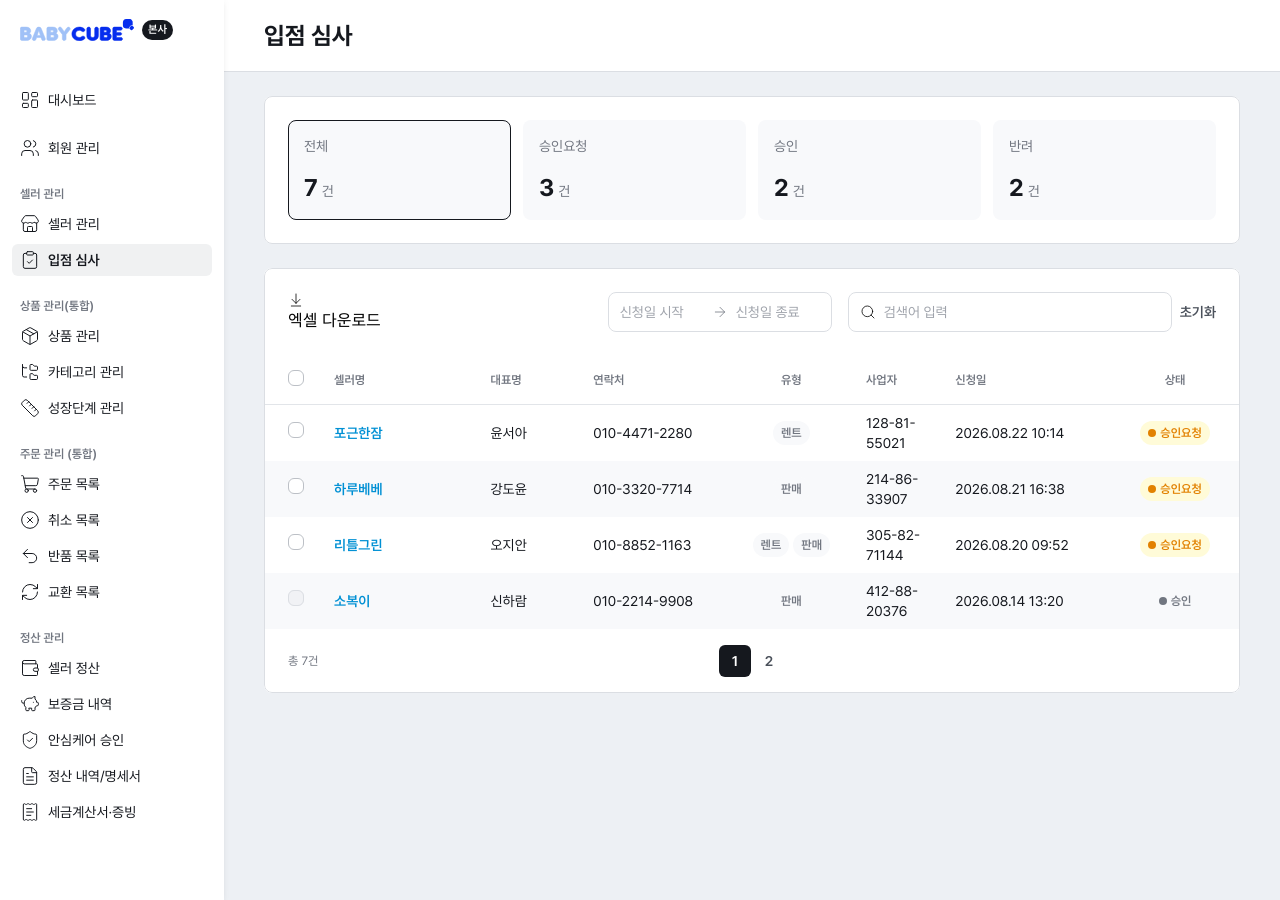
SellerReviewPage (S04 입점 심사) › 목록 › 승인일 열은 승인 필터에서만, 반려일 열은 반려 필터에서만 나온다
The width and height of the screenshot is (1280, 900).
Expected: the column heading "승인일" is not shown
Expected: the column heading "반려일" is not shown
Click the button with aria-label "승인 2건". click: [870, 170]
box: [758,120,981,220]
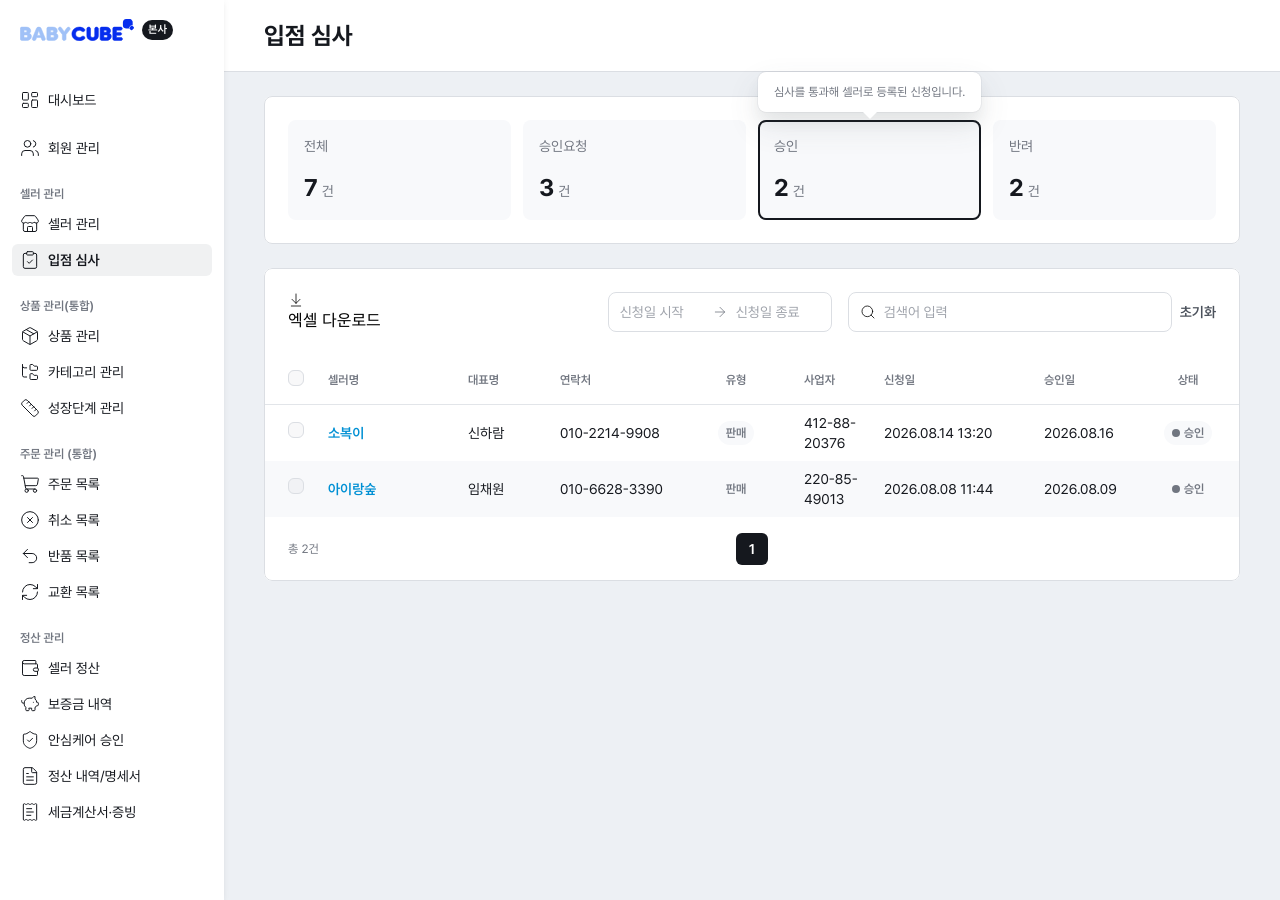
Expected: the column heading "반려일" is not shown
Now the column heading "승인일" is shown, box [1032,356,1144,404]
Click the button with aria-label "반려 2건". click: [1104, 170]
box: [993,120,1216,220]
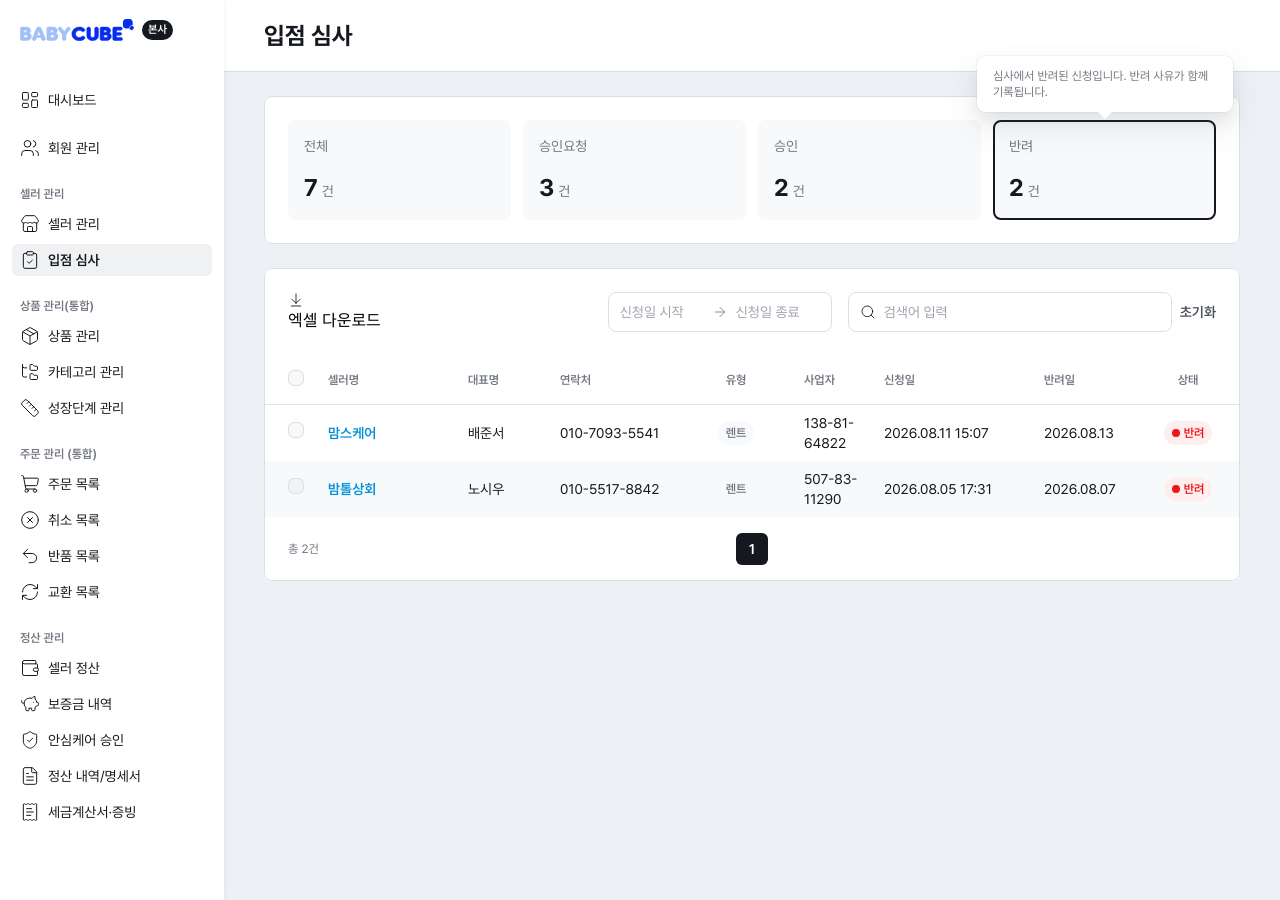
Now the column heading "반려일" is shown, box [1032,356,1144,404]
Now the column heading "승인일" is gone
